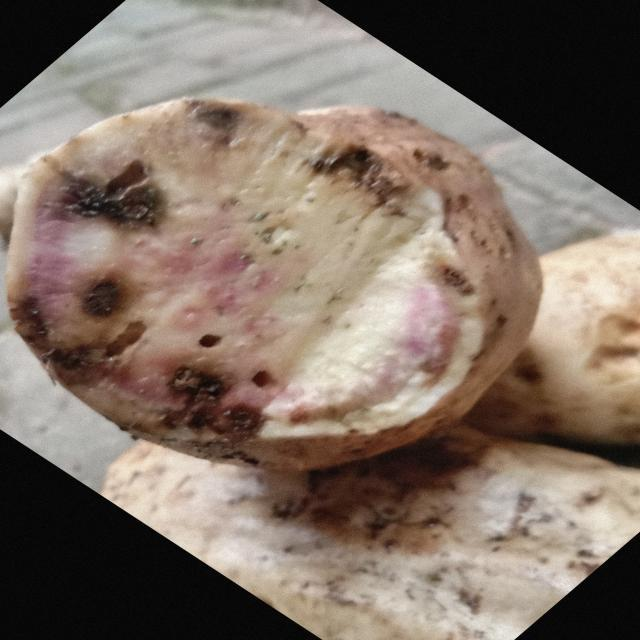Sick Sweet Potato_Tuber Rot: (3, 99, 540, 470)
